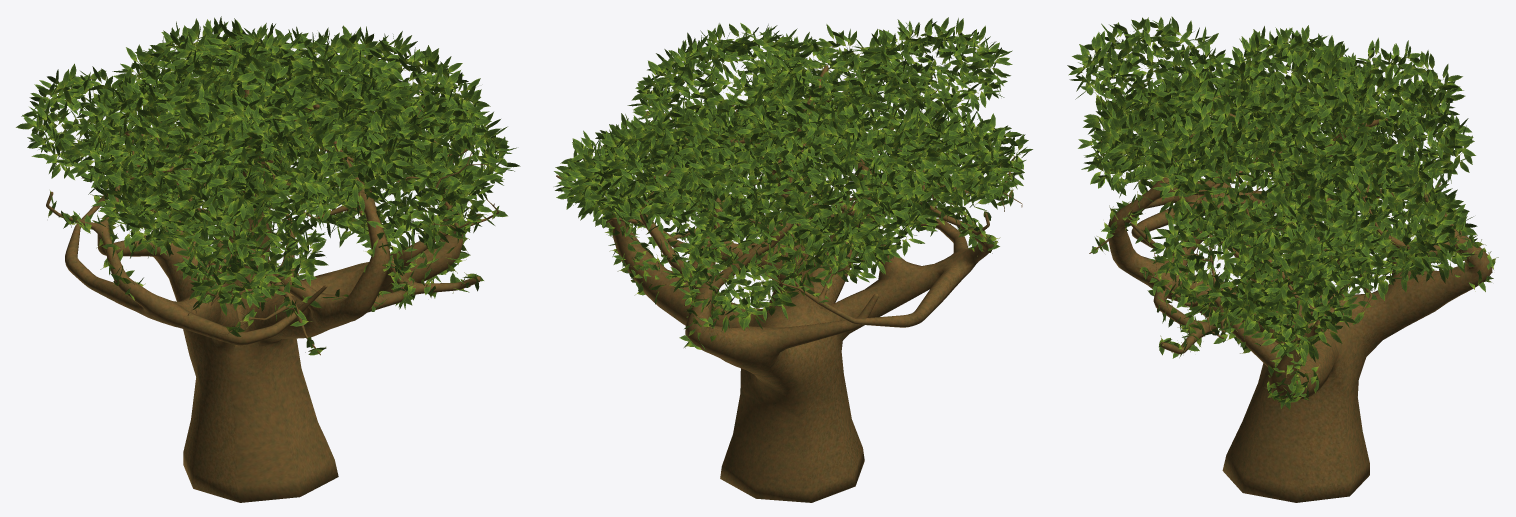
File: Arbre_Test.fbx
The picture shows the model from 3 angles, left to right: view 1: azimuth 30°, elevation 25°; view 2: azimuth 150°, elevation 25°; view 3: azimuth 270°, elevation 25°; orthographic projection. The views are drawn at different scales.
Parts seen in each view (by area): view 1: Feuille.001, ArbreLowPoly; view 2: Feuille.001, ArbreLowPoly; view 3: Feuille.001, ArbreLowPoly.
Boxes of the visible parts, x1,y1,x2,y2 form: Feuille.001: (16,16,520,355); ArbreLowPoly: (46,46,499,502); Feuille.001: (554,17,1032,350); ArbreLowPoly: (556,65,1022,502); Feuille.001: (1067,16,1498,409); ArbreLowPoly: (1089,70,1492,502).
Bounding box in the file's own units: 864 × 751 × 805.
